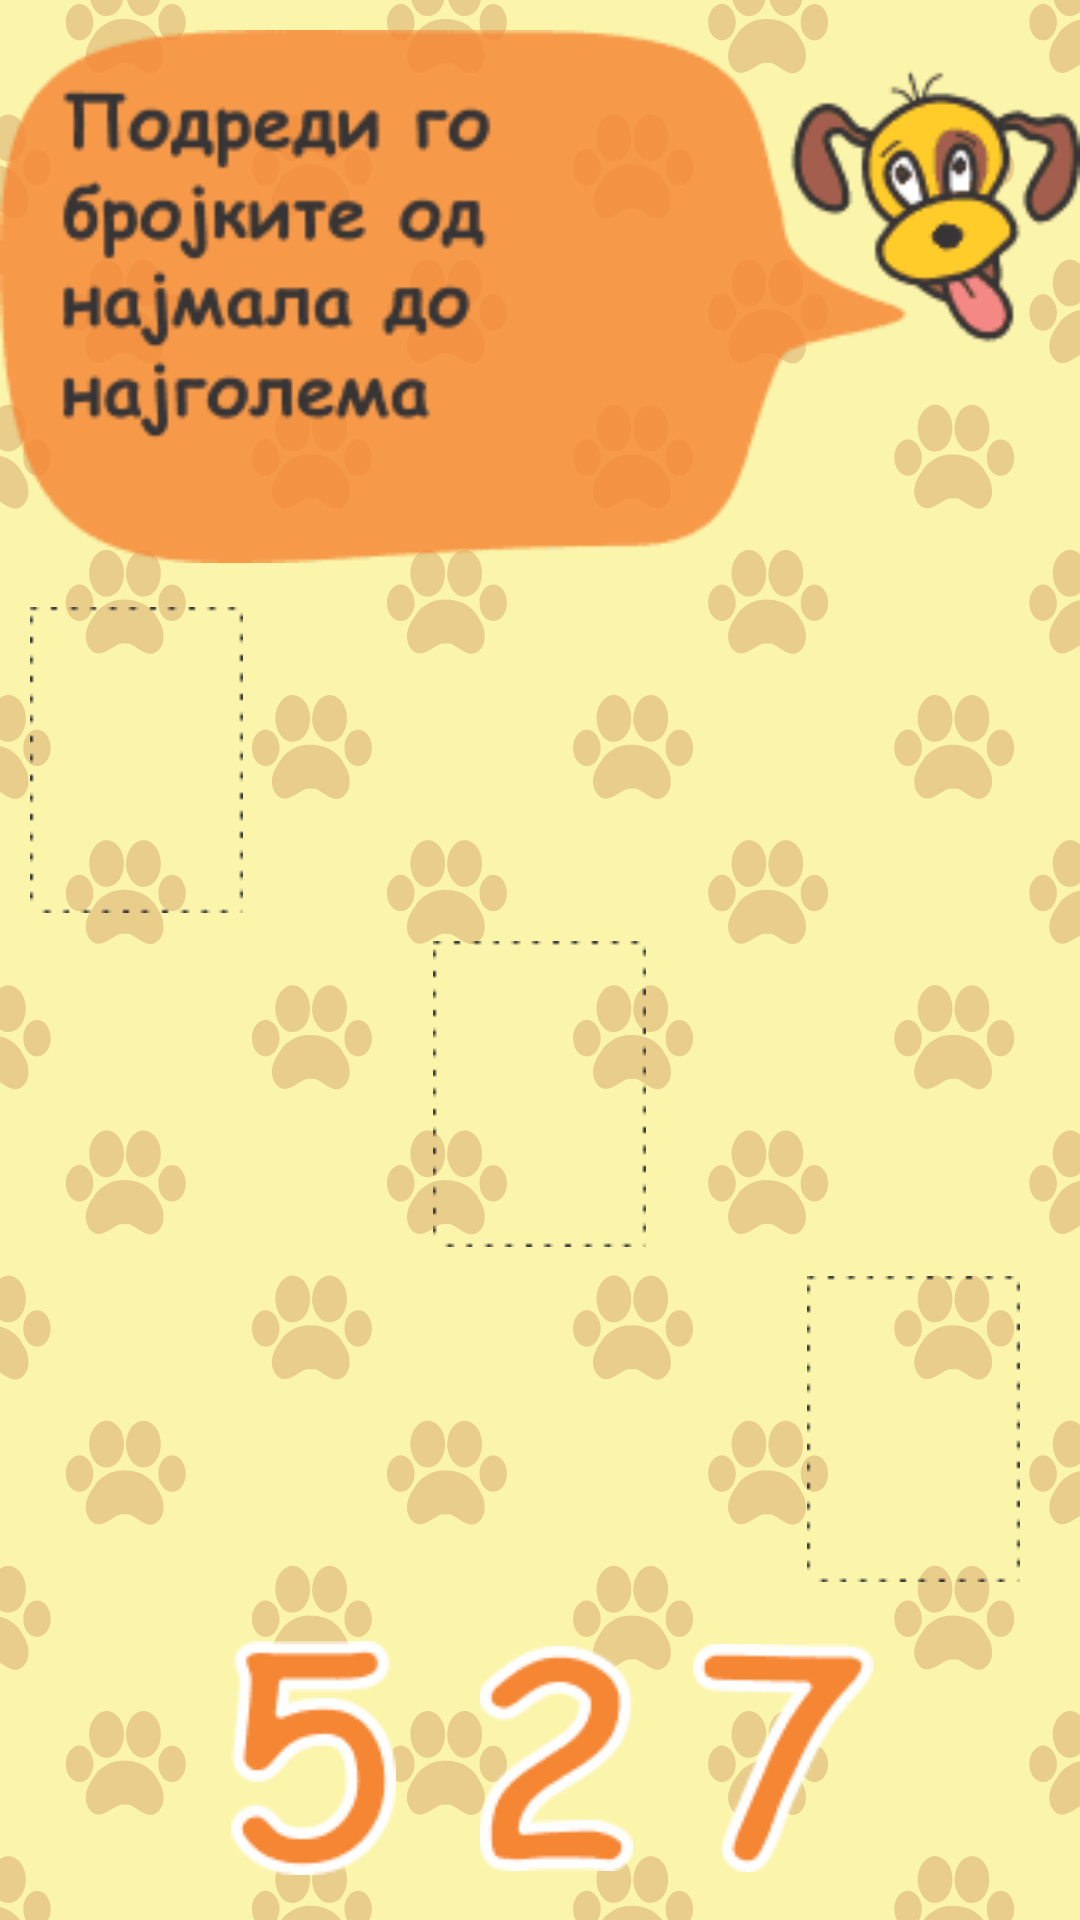

Icon bounding boxes for this 1080 x 1920 phone screenshot, format (x1, y1, x2, y2):
seven: (693, 1644, 873, 1872)
